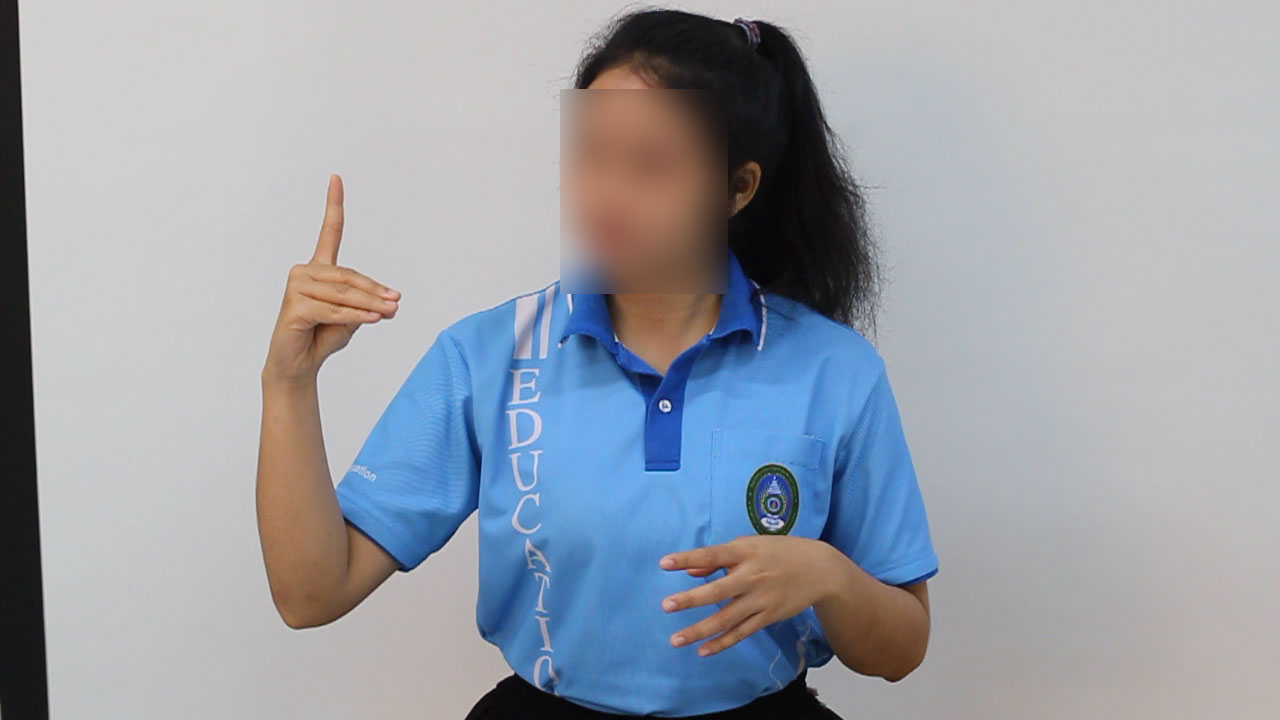dor: (249, 164, 409, 389)
